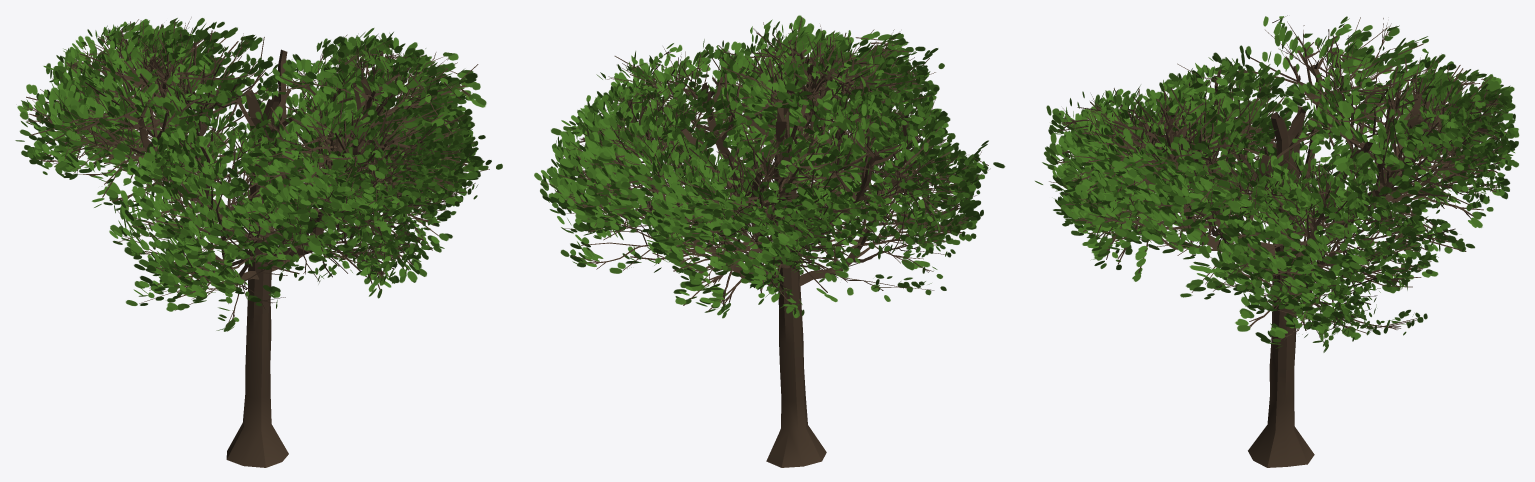
3 renders of one model, left to right at view 1: azimuth 30°, elevation 25°; view 2: azimuth 150°, elevation 25°; view 3: azimuth 270°, elevation 25°, orthographic. The views are drawn at different scales.
Visible parts, largest first — view 1: oak 01.001_trunk_Mat.001_0.072; view 2: oak 01.001_trunk_Mat.001_0.072; view 3: oak 01.001_trunk_Mat.001_0.072.
Boxes of the visible parts, bbox=[...] form: oak 01.001_trunk_Mat.001_0.072: bbox=[15, 17, 502, 467]; oak 01.001_trunk_Mat.001_0.072: bbox=[534, 15, 1005, 467]; oak 01.001_trunk_Mat.001_0.072: bbox=[1035, 15, 1519, 467].
Bounding box in the file's own units: 5.87 × 4.74 × 5.68.
Materials: 2 (1 with a texture image).
